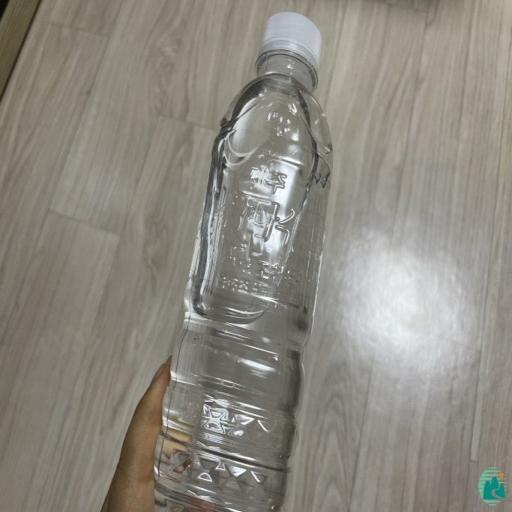plastic: (154, 13, 332, 511)
